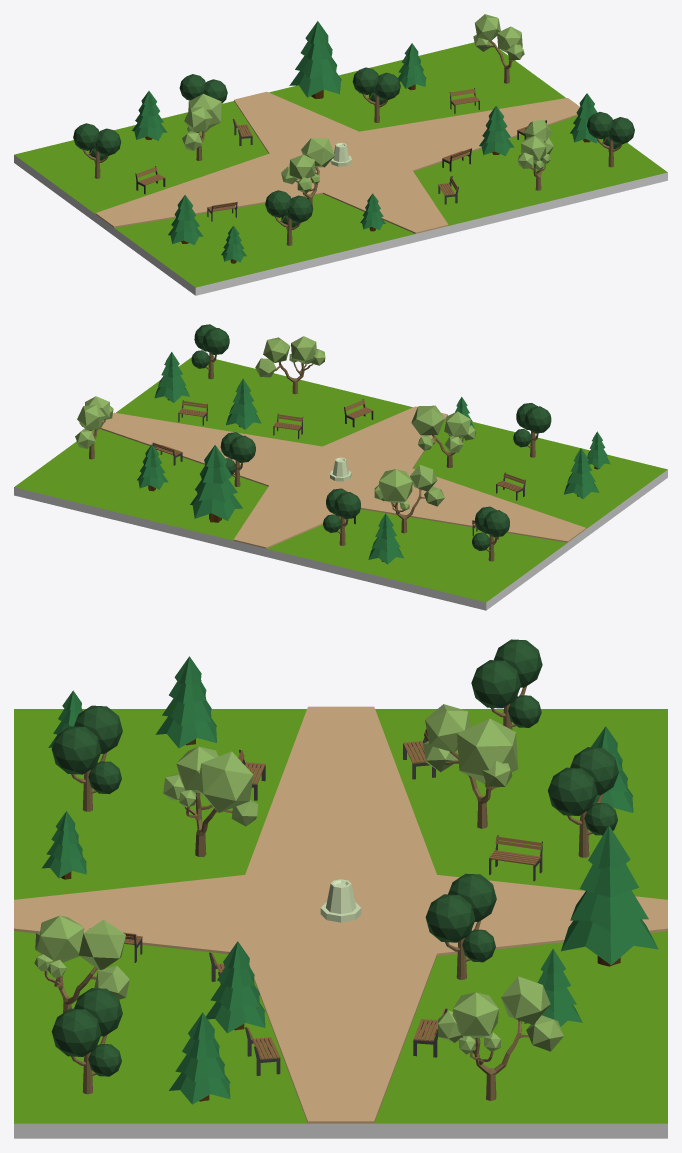
File: Park 2x3.gltf
3 views of the same model, one above another, from view 1: azimuth 30°, elevation 25°; view 2: azimuth 150°, elevation 25°; view 3: azimuth 270°, elevation 25° (orthographic). The views are drawn at different scales.
Parts seen in each view (by area): view 1: BAZA 2x2.007, jelke.002, DRVO 3.003, kluice.001, Tree 3.003, Tree 4.006, Tree 4.004, Tree 4.005; view 2: BAZA 2x2.007, jelke.002, DRVO 3.003, Tree 4.004, Tree 3.003, Tree 4.005, kluice.001, Tree 4.006; view 3: BAZA 2x2.007, DRVO 3.003, jelke.002, Tree 4.006, Tree 4.004, Tree 3.003, Tree 4.005, kluice.001.
Boxes of the visible parts, x1,y1,x2,y2 form: BAZA 2x2.007: (14, 42, 667, 295); jelke.002: (132, 21, 597, 263); DRVO 3.003: (73, 67, 634, 245); kluice.001: (135, 88, 546, 221); Tree 3.003: (281, 138, 334, 206); Tree 4.006: (473, 14, 524, 83); Tree 4.004: (182, 93, 221, 160); Tree 4.005: (518, 119, 553, 190); BAZA 2x2.007: (14, 357, 667, 610); jelke.002: (137, 352, 610, 564); DRVO 3.003: (191, 324, 551, 561); Tree 4.004: (374, 464, 444, 533); Tree 3.003: (411, 405, 476, 467); Tree 4.005: (255, 336, 325, 394); kluice.001: (152, 399, 525, 539); Tree 4.006: (75, 396, 113, 459); BAZA 2x2.007: (14, 706, 667, 1138); DRVO 3.003: (51, 639, 618, 1094); jelke.002: (41, 656, 658, 1104); Tree 4.006: (438, 976, 563, 1100); Tree 4.004: (423, 704, 518, 828); Tree 3.003: (163, 746, 258, 856); Tree 4.005: (34, 915, 129, 1012); kluice.001: (89, 729, 542, 1075).
Size of the model in its own units: 6 by 1.02 by 4.
